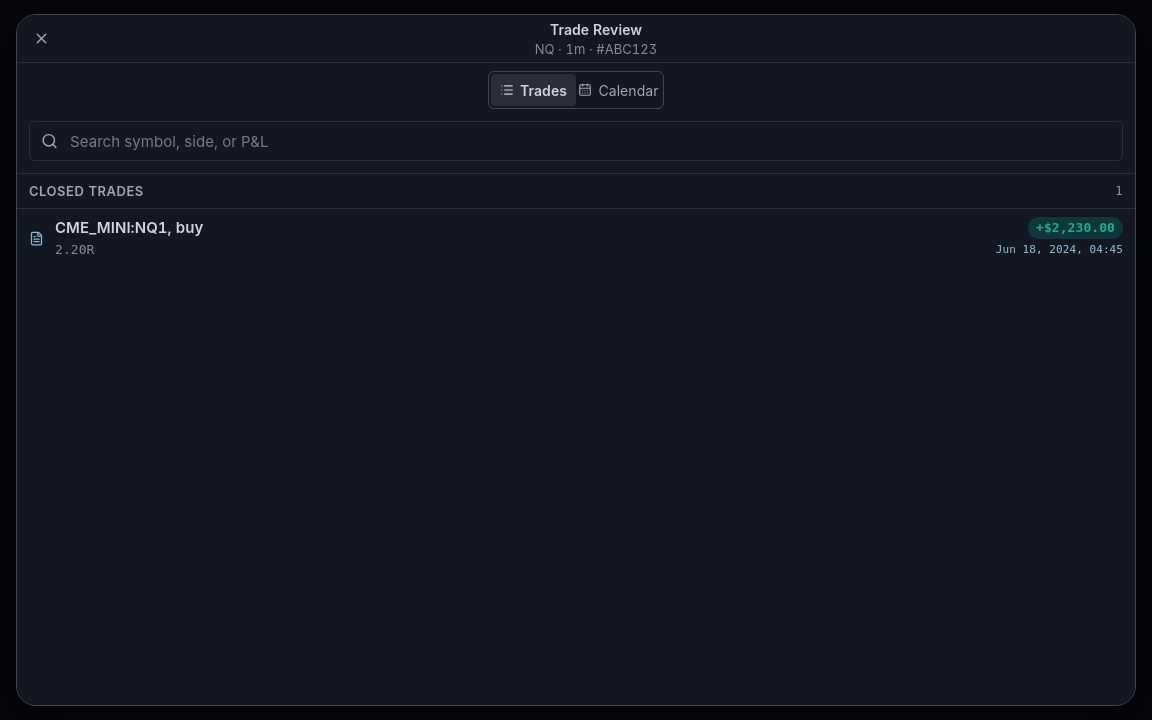
Scenario: ReviewPanel › shows calendar activity as a compact list of trading days
Click the button "Calendar": coordinates (618, 90) [576,74,661,106]
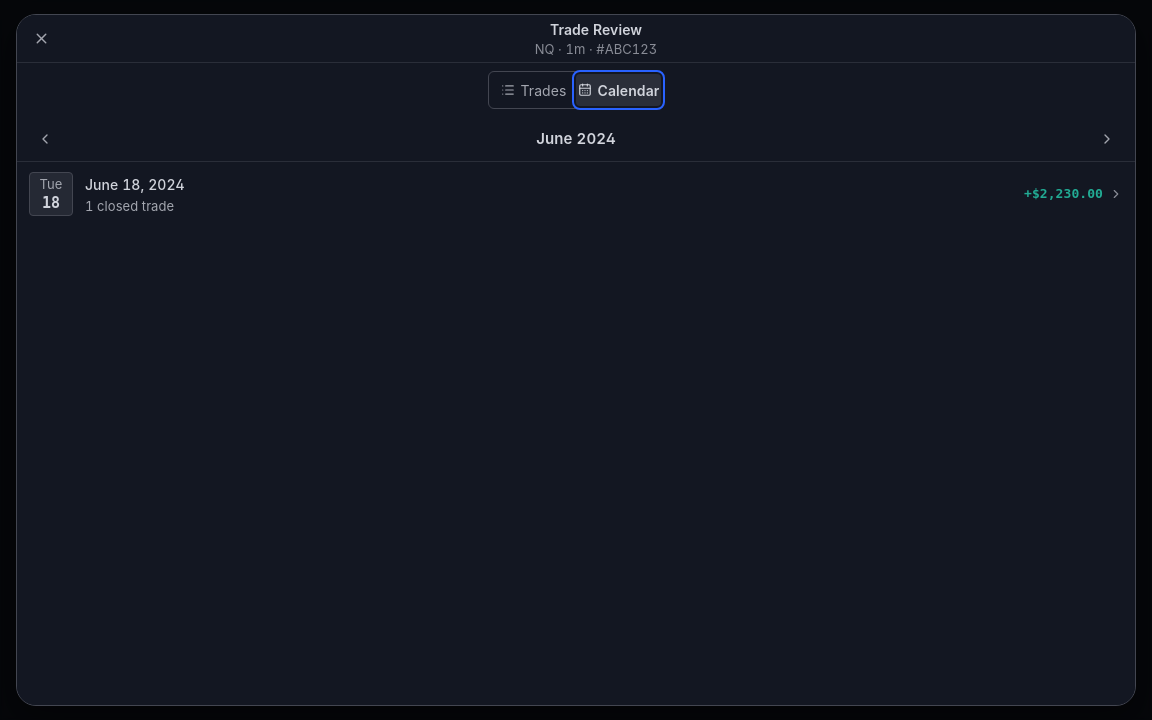
Result: the list named "Trade days in June 2024" is shown
Result: the button with aria-label "June 18, 2024, 1 closed trade" is shown at [17,162,1135,226]
